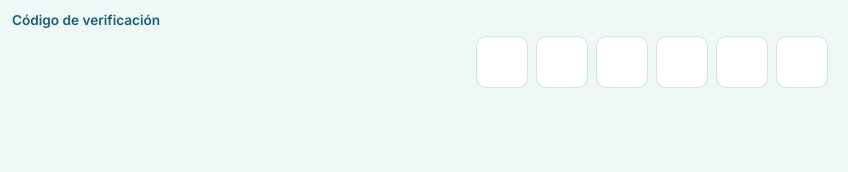
CasilleroCodigo › auto-avanza el foco al escribir cada dígito
Click the field named "Dígito 1 de 6" at (502, 62), box [476, 36, 528, 88]
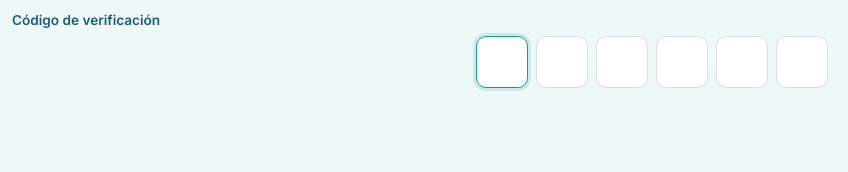
Type keys "123456"
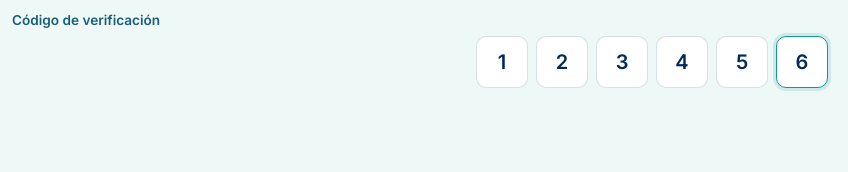
Now the field named "Dígito 1 de 6" holds "1", box [476, 36, 528, 88]
Now the field named "Dígito 2 de 6" holds "2", box [536, 36, 588, 88]
